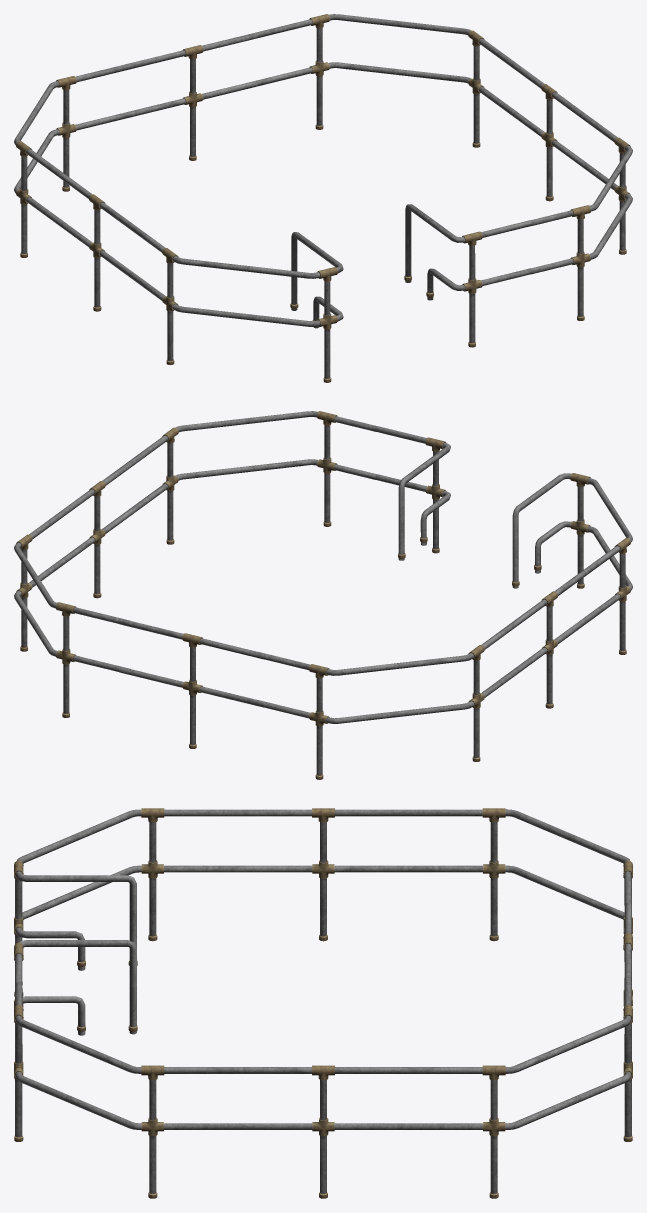
File: railing_03_02_containment_room02.dae
3 views of the same model, one above another, from view 1: azimuth 30°, elevation 25°; view 2: azimuth 150°, elevation 25°; view 3: azimuth 270°, elevation 25° (orthographic). The views are drawn at different scales.
Visible parts, largest first — view 1: 03_02_containment_room02; view 2: 03_02_containment_room02; view 3: 03_02_containment_room02.
Boxes of the visible parts, x1,y1,x2,y2 form: 03_02_containment_room02: (14,14,632,382); 03_02_containment_room02: (14,411,632,779); 03_02_containment_room02: (14,808,632,1198).
Bounding box in the file's own units: 6.35 × 1.48 × 6.35.
